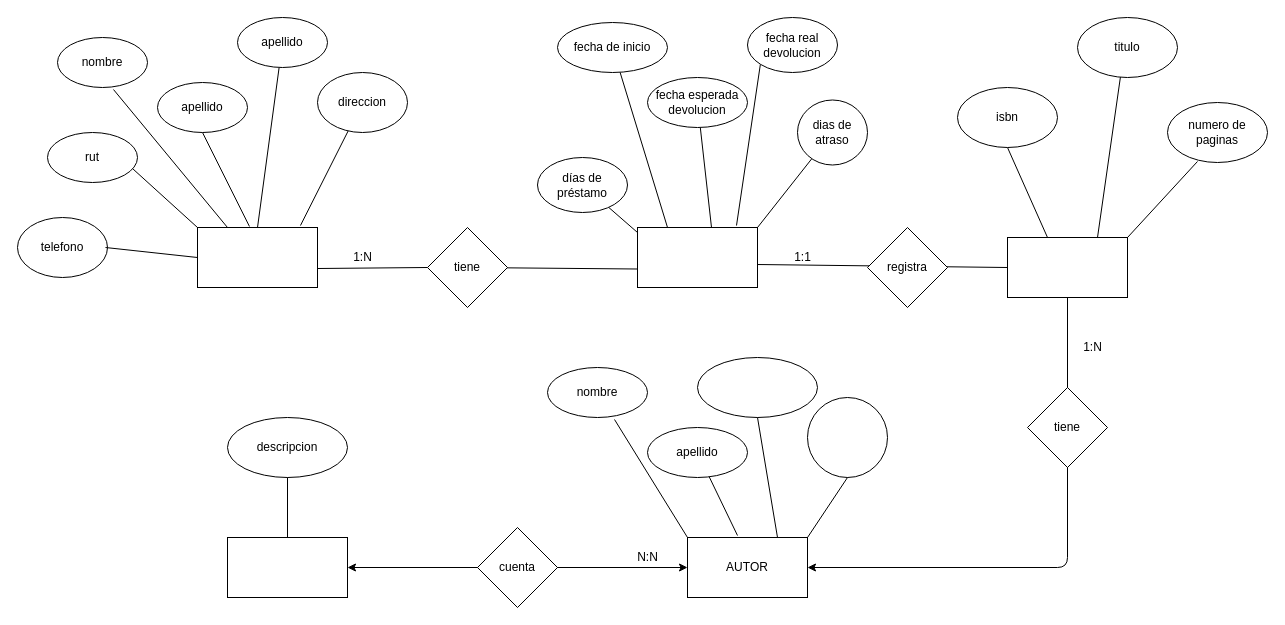
Image size: 1285x625. Some labels were removed from this diagram. Each missing label, with the centre of its shape:
"fecha fallecimiento" goes at (847,437).
"fecha_nacimiento" goes at (757,387).
"HISTORIAL DE PRESTAMO" goes at (697,257).
"LIBRO" goes at (1067,267).
"ROL" goes at (287,567).
"SOCIO" goes at (257,257).
